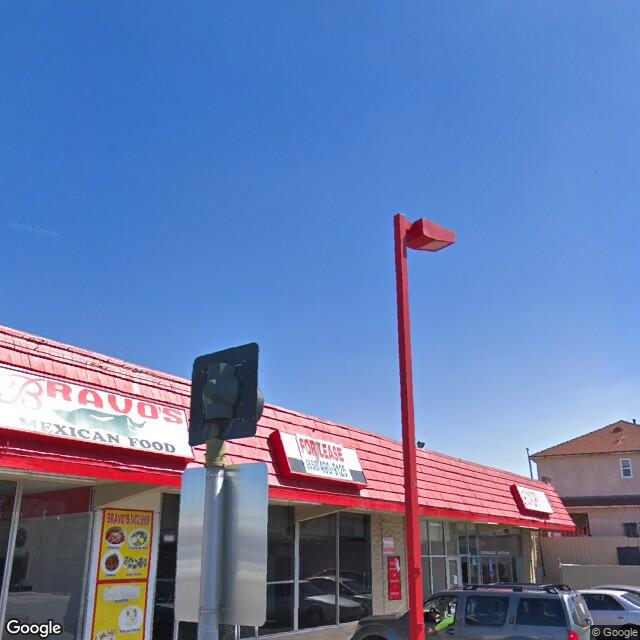light: (407, 219, 459, 256)
window: (15, 481, 92, 633), (294, 501, 373, 630), (417, 518, 463, 591)
